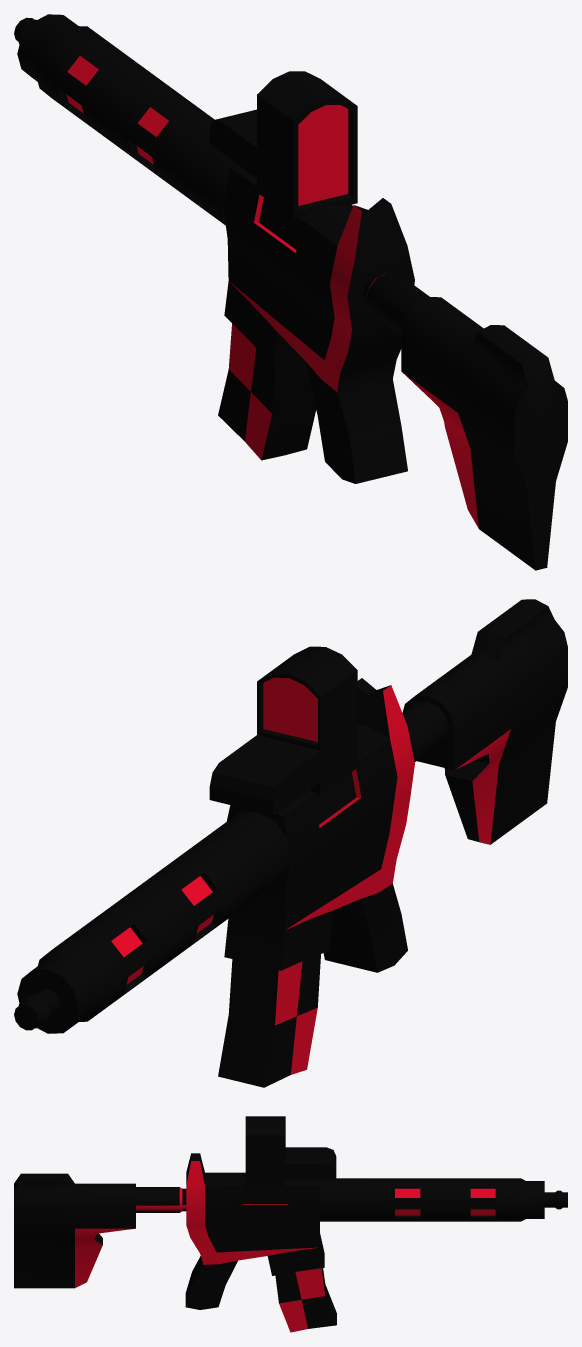
3 views of the same model, one above another, from view 1: azimuth 30°, elevation 25°; view 2: azimuth 150°, elevation 25°; view 3: azimuth 270°, elevation 25° (orthographic). The views are drawn at different scales.
Parts seen in each view (by area): view 1: SM_AR_15; view 2: SM_AR_15; view 3: SM_AR_15.
Part boxes in pixels (x1=…): SM_AR_15: x1=14, y1=14, x2=567, y2=570; SM_AR_15: x1=14, y1=599, x2=567, y2=1087; SM_AR_15: x1=14, y1=1116, x2=567, y2=1332.
Bounding box in the file's own units: 70.93 × 373 × 900.
